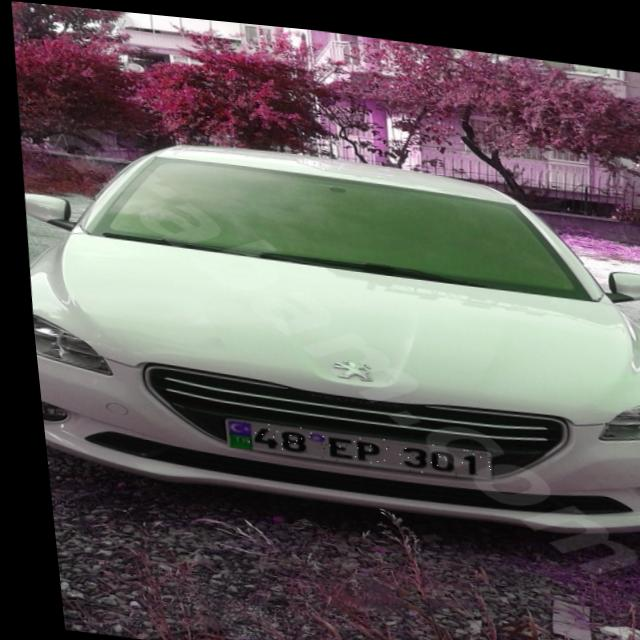license_plate: (216, 413, 486, 473)
